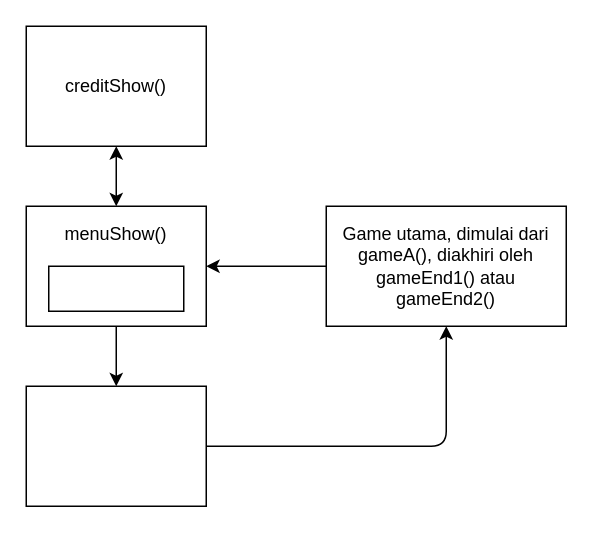
Some shapes in this 593 by 533 pixel diagram are drawn without their labels. Each missing label, with the centre of its shape:
"gamePlay()" belongs at [115,445].
"resetStatus()" belongs at [115,288].
